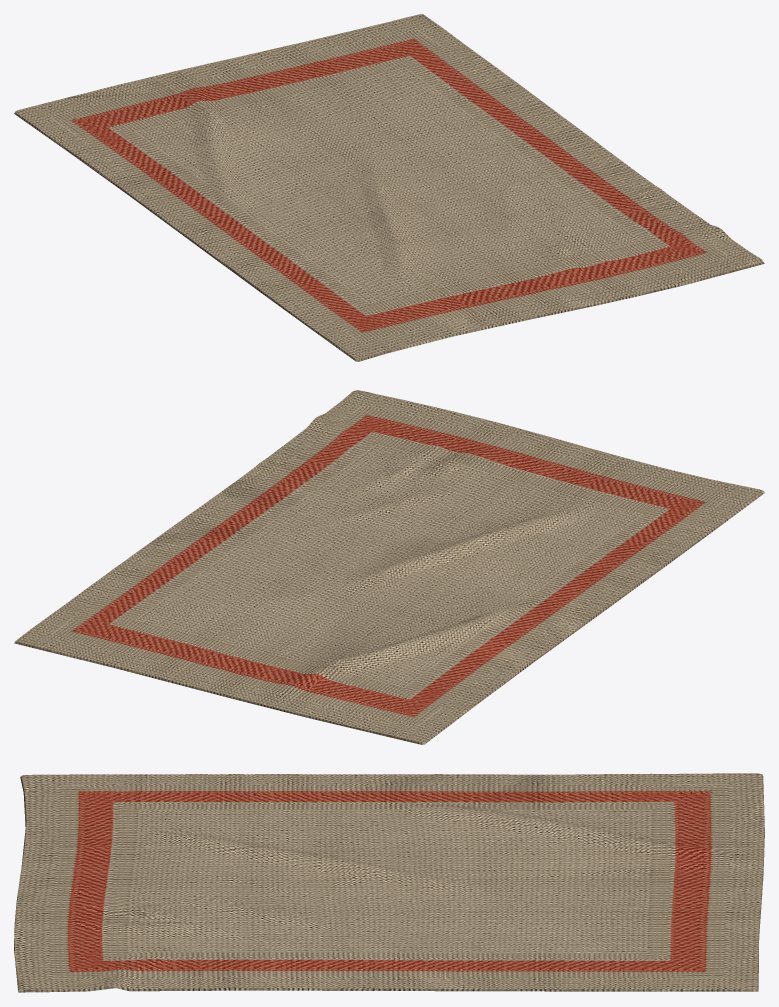
File: Carpet.FBX
The picture shows the model from 3 angles, top to bottom: view 1: azimuth 30°, elevation 25°; view 2: azimuth 150°, elevation 25°; view 3: azimuth 270°, elevation 25°; orthographic projection. The views are drawn at different scales.
Visible parts, largest first — view 1: Carpet; view 2: Carpet; view 3: Carpet.
Part boxes in pixels (bbox=[...]): Carpet: bbox=[14, 14, 764, 361]; Carpet: bbox=[14, 390, 764, 744]; Carpet: bbox=[14, 773, 764, 992].
Bounding box in the file's own units: 138 × 201 × 2.52.
Materials: 1 (1 with a texture image).
